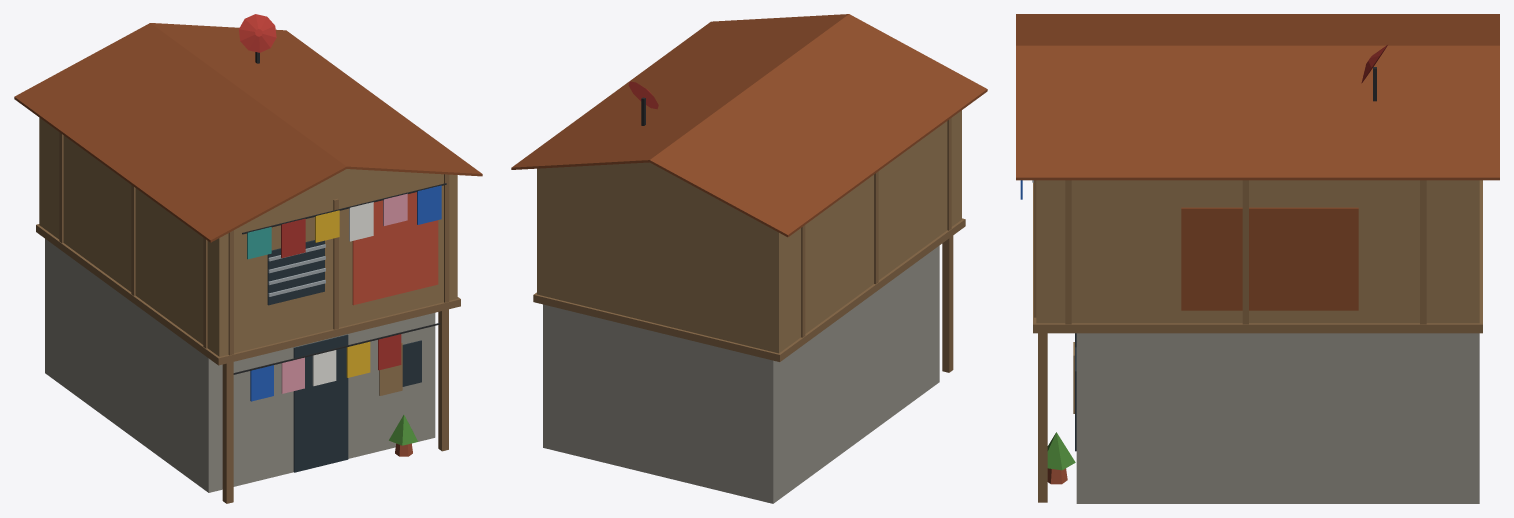
File: BAY_I_Shanty2F_D.glb
3 views of the same model, side by side, from view 1: azimuth 30°, elevation 25°; view 2: azimuth 150°, elevation 25°; view 3: azimuth 270°, elevation 25° (orthographic). The views are drawn at different scales.
Visible parts, largest first — view 1: BAY_I_Shanty2F_D; view 2: BAY_I_Shanty2F_D; view 3: BAY_I_Shanty2F_D.
Boxes of the visible parts, left/top/right/bottom form: BAY_I_Shanty2F_D: left=14, top=14, right=482, bottom=503; BAY_I_Shanty2F_D: left=511, top=14, right=987, bottom=503; BAY_I_Shanty2F_D: left=1016, top=14, right=1499, bottom=503.
Size of the model in its own units: 4.8 by 5.81 by 6.
1 material, 1 textured.
